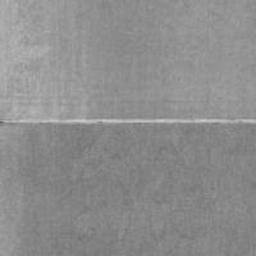Welding line: (0, 118, 256, 125)
